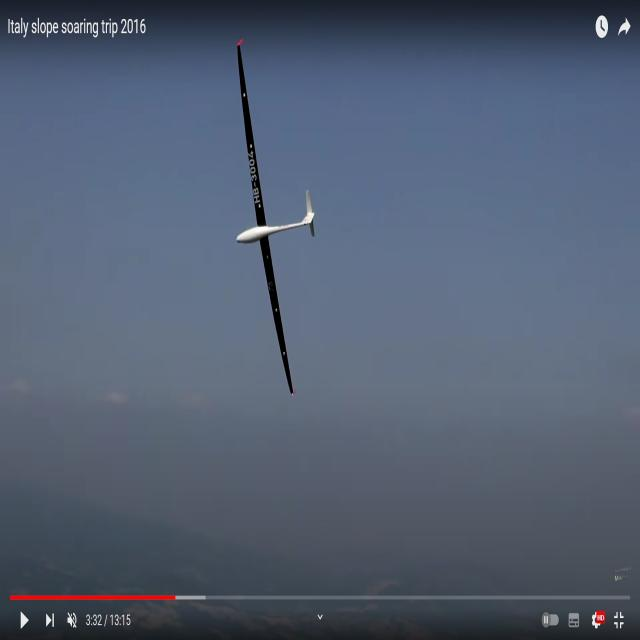iha: (266, 40, 284, 401)
